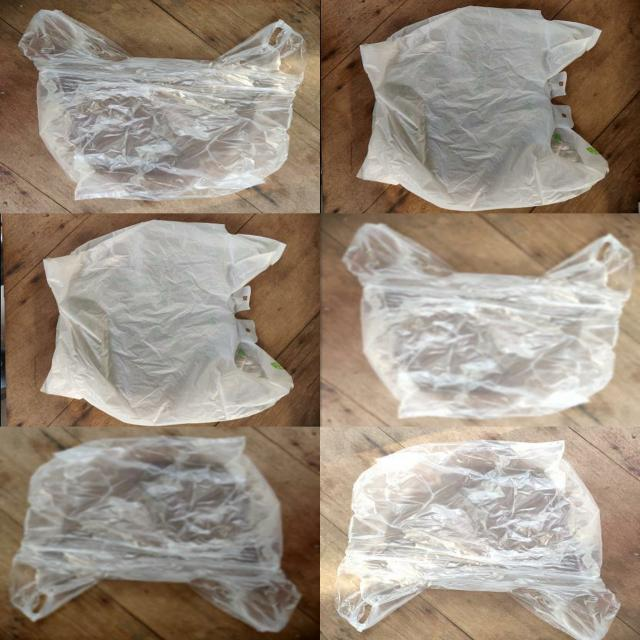Single-layer Plastic: (10, 436, 300, 632), (335, 440, 618, 640), (343, 224, 633, 419), (19, 10, 306, 200), (358, 6, 608, 211), (43, 220, 293, 425)
